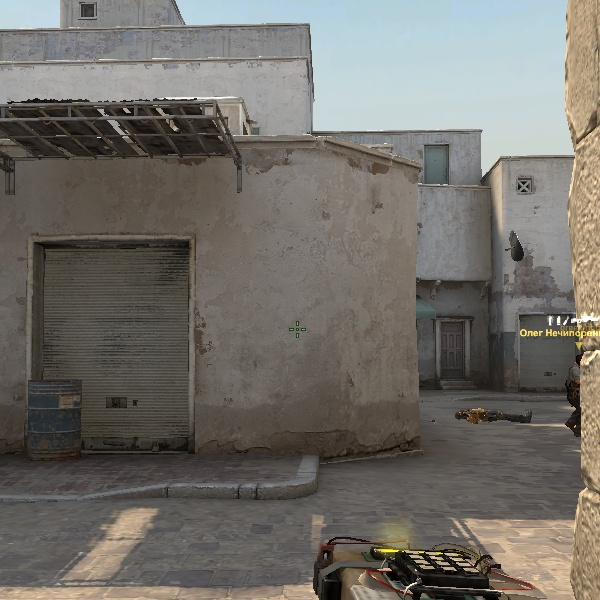t_body: (566, 353, 581, 436), (455, 408, 532, 424)
t_head: (576, 353, 582, 368), (456, 411, 467, 419)
